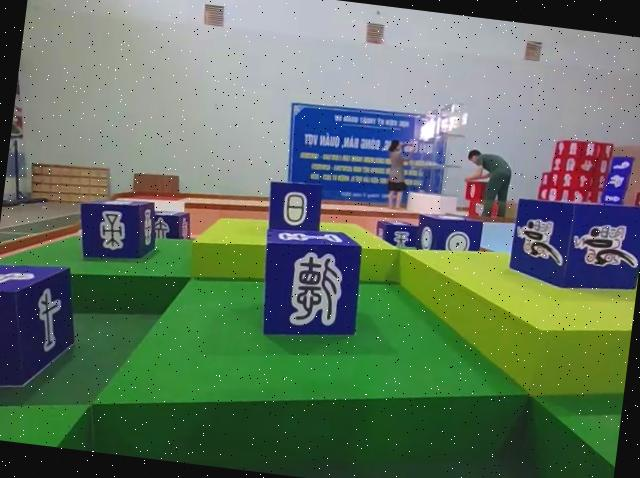R1 Blue: (506, 193, 640, 300)
R2 Fake Blue: (251, 225, 364, 349), (264, 180, 324, 239), (148, 210, 190, 245)
R2 Real Blue: (0, 260, 79, 403), (75, 195, 160, 270), (413, 211, 482, 258), (376, 219, 423, 251)
